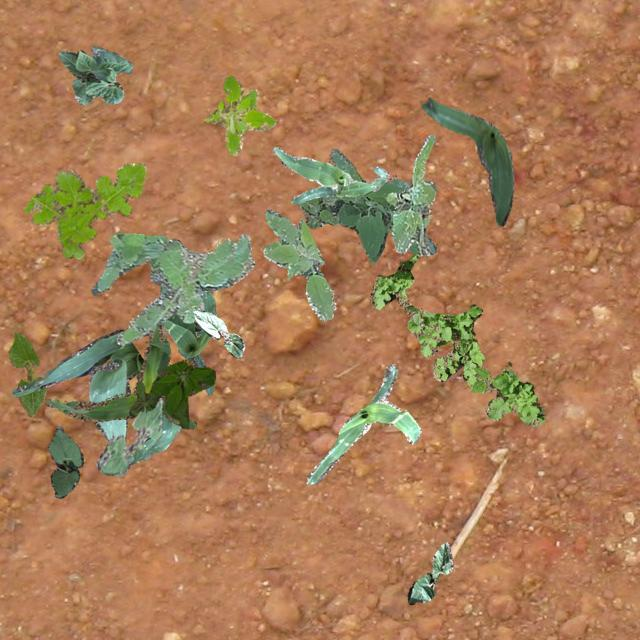crop: (12, 328, 180, 464), (44, 322, 196, 428), (306, 362, 420, 482), (420, 96, 512, 225), (272, 146, 388, 203), (159, 284, 215, 394), (96, 396, 162, 474), (57, 46, 132, 104), (8, 332, 46, 416), (406, 540, 452, 604), (46, 424, 82, 498), (193, 308, 243, 357)
weed: (370, 252, 544, 426), (90, 232, 254, 344), (298, 148, 436, 262), (22, 162, 146, 258), (262, 208, 334, 320), (386, 132, 436, 255), (203, 74, 276, 154), (128, 359, 215, 426)
